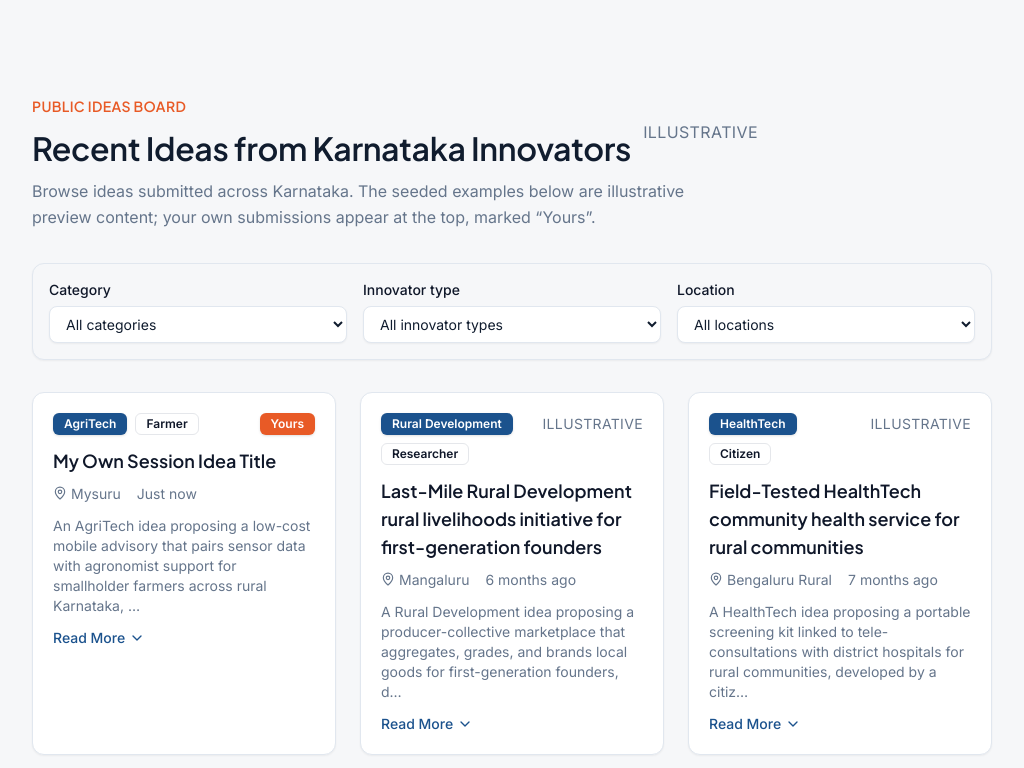
Test: PublicIdeasBoard › exposes labelled native <select> filters that narrow the list (Req 29.4, 29.6)
Filtering by the session idea's category narrows to that category only.
Select "AgriTech" in the dropdown labelled "Category" at [198, 324], box top-left (49, 306), bottom-right (347, 343)
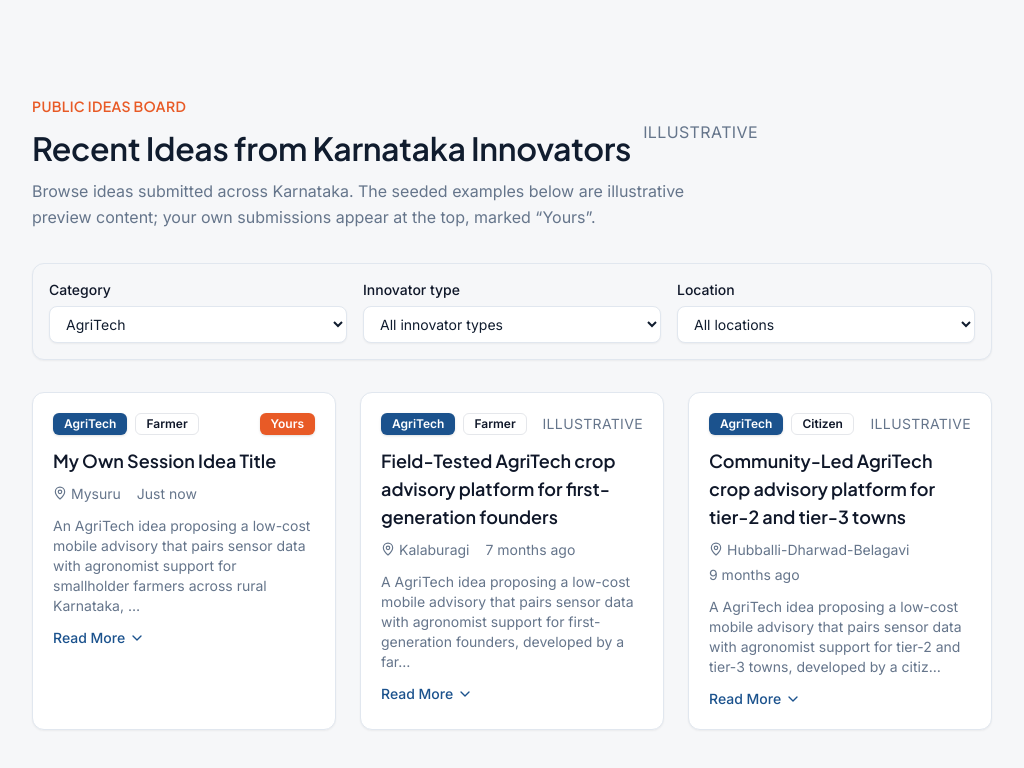
Check: the number of list items is 3, box top-left (32, 392), bottom-right (336, 730); top-left (360, 392), bottom-right (664, 730); top-left (688, 392), bottom-right (992, 730)
